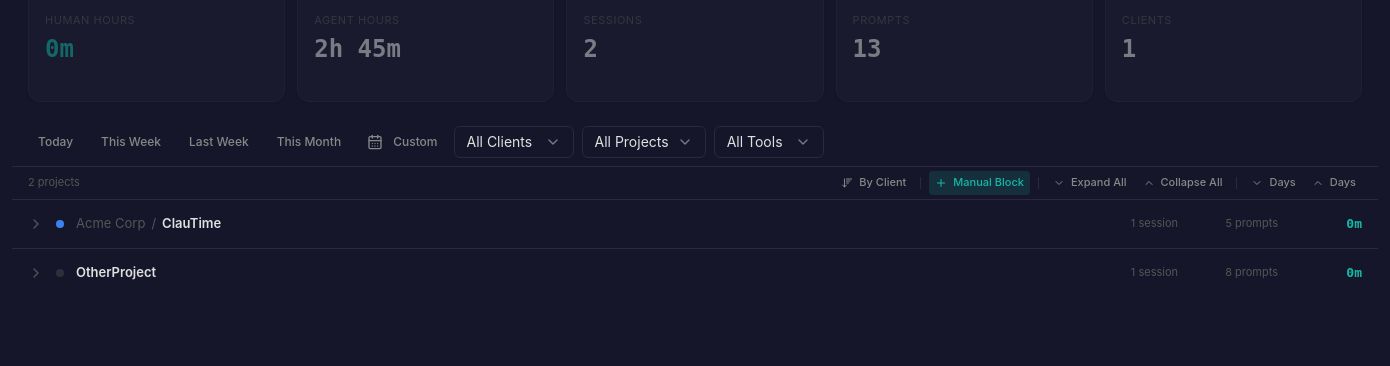
SessionsPage › shows "Map this directory" link in unassigned group
# Expand the unassigned group
Click the text "OtherProject": (116, 272) [76, 264, 156, 280]
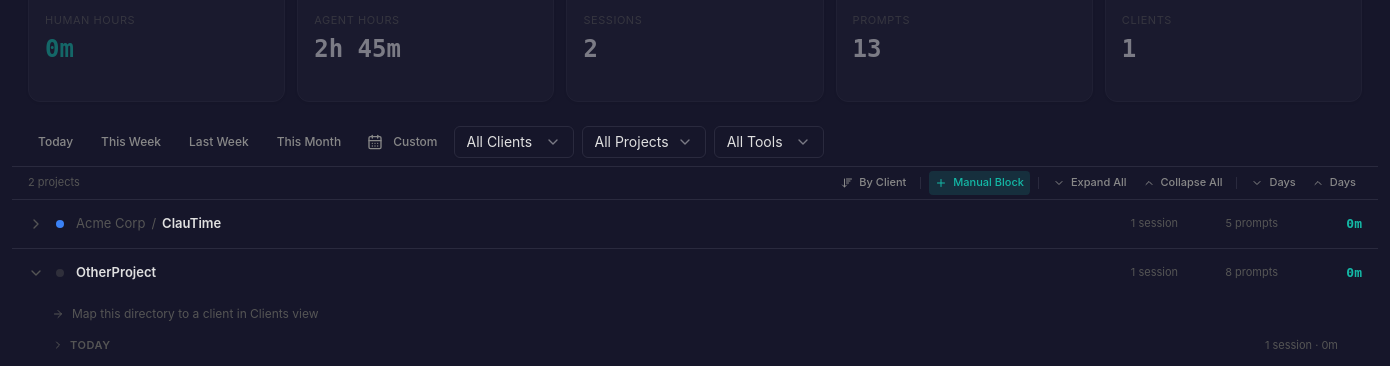
Result: the button "Map this directory to a client in Clients view" is shown at [12, 296, 1378, 330]
